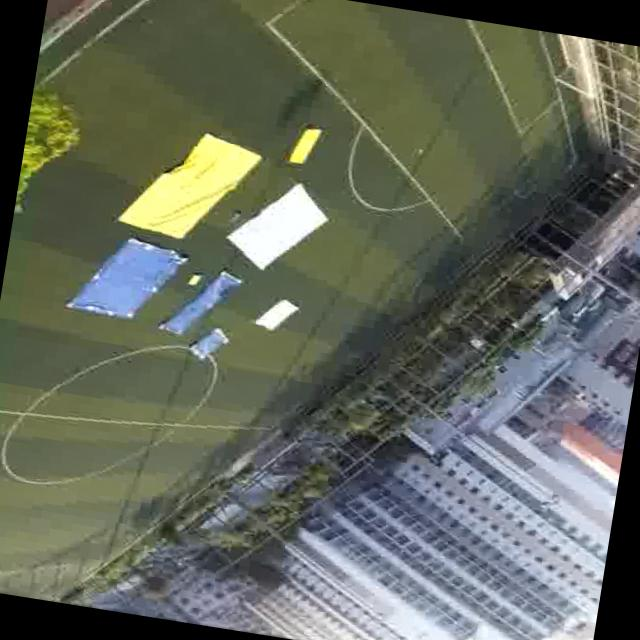danger: (74, 236, 156, 316), (193, 265, 239, 324), (194, 333, 226, 363)
safety: (233, 187, 324, 277), (252, 296, 300, 342)
warning: (140, 132, 234, 241), (284, 118, 324, 168)
